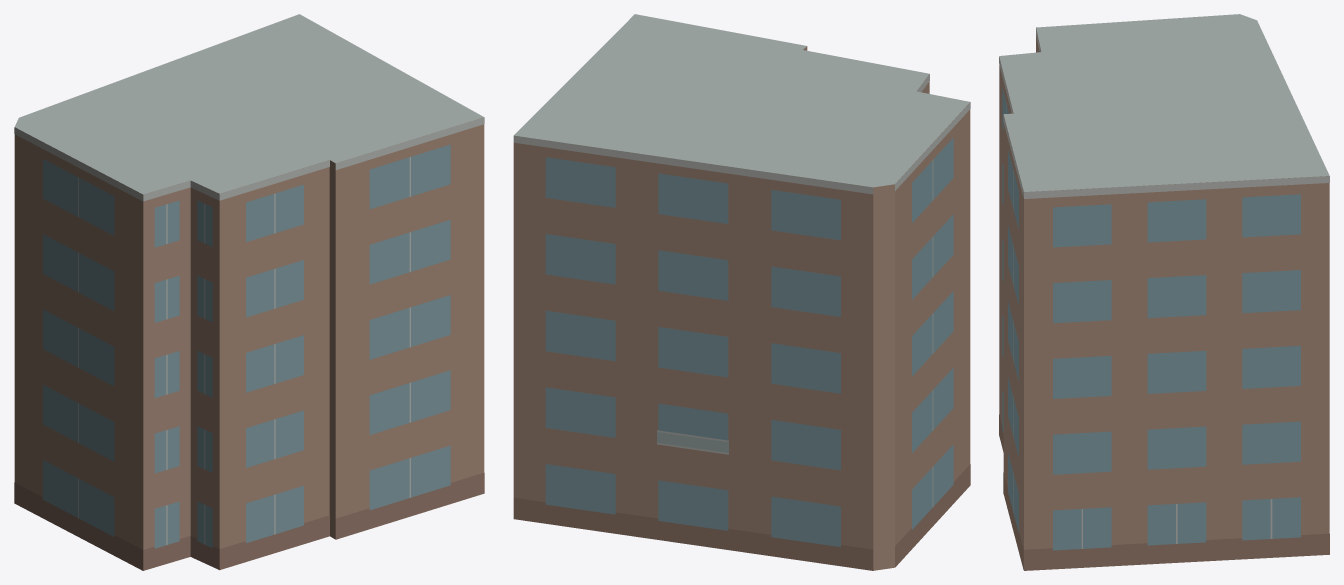
The model's file is survey-upis-32561914.glb.
The picture shows the model from 3 angles, left to right: view 1: azimuth 30°, elevation 25°; view 2: azimuth 150°, elevation 25°; view 3: azimuth 270°, elevation 25°; orthographic projection.
Parts seen in each view (by area): view 1: survey-upis-32561914.tmp; view 2: survey-upis-32561914.tmp; view 3: survey-upis-32561914.tmp.
Part boxes in pixels (left/top/right/bottom): survey-upis-32561914.tmp: left=14, top=14, right=484, bottom=570; survey-upis-32561914.tmp: left=513, top=14, right=970, bottom=570; survey-upis-32561914.tmp: left=999, top=14, right=1329, bottom=570.
Bounding box in the file's own units: 13.32 × 13.2 × 10.45.
